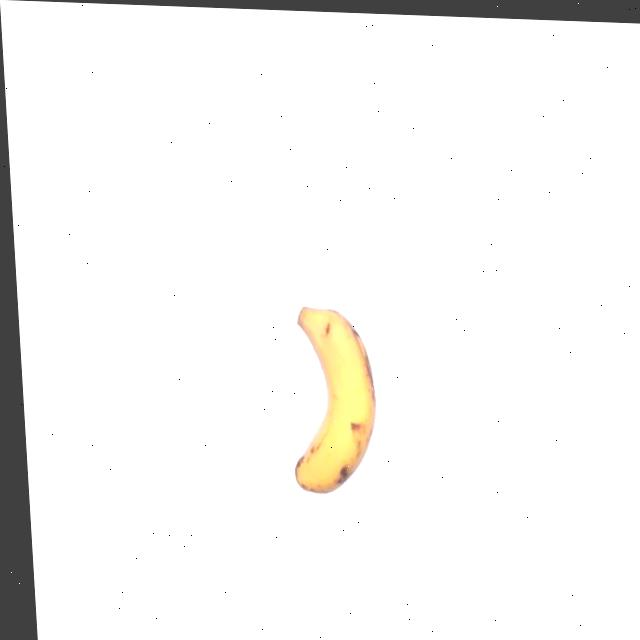banana: (283, 302, 384, 500)
